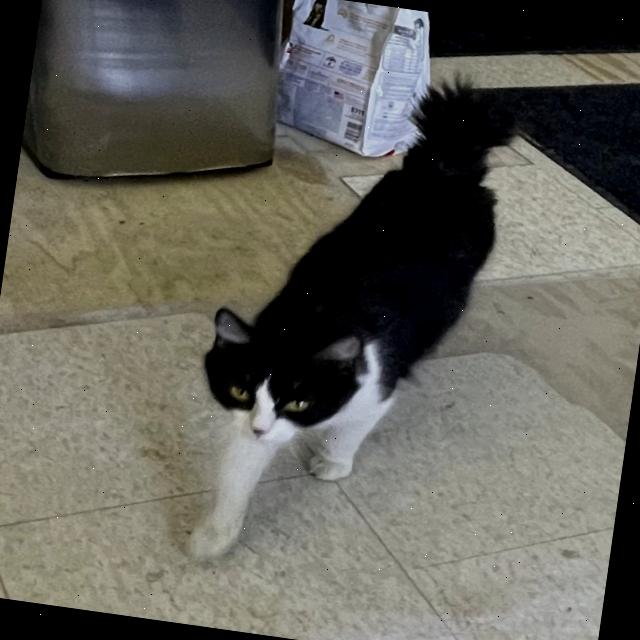manx_cat: (172, 296, 396, 472)
